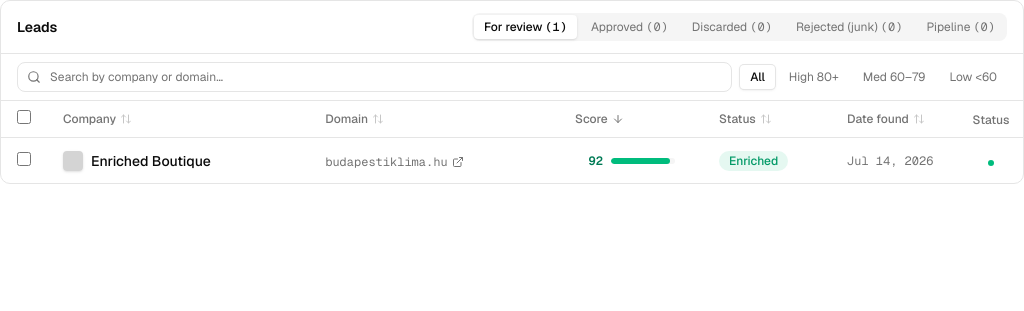
Test: LeadsTable Component › REGRESSION: enriched leads appear in For review tab, not Pipeline
The width and height of the screenshot is (1024, 311).
expect the text "Enriched Boutique" is shown: met, box [63,150,211,170]
Step 1. Click the tab "Pipeline (0)" → (961, 27), box [916,15,1005,39]
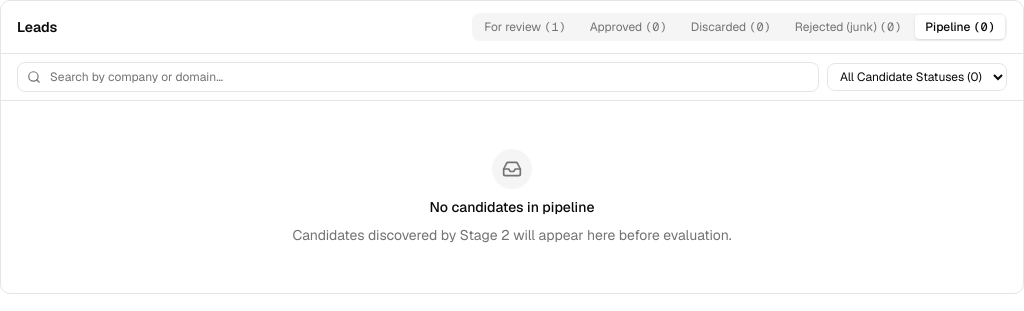
expect the text "Enriched Boutique" is gone: met
